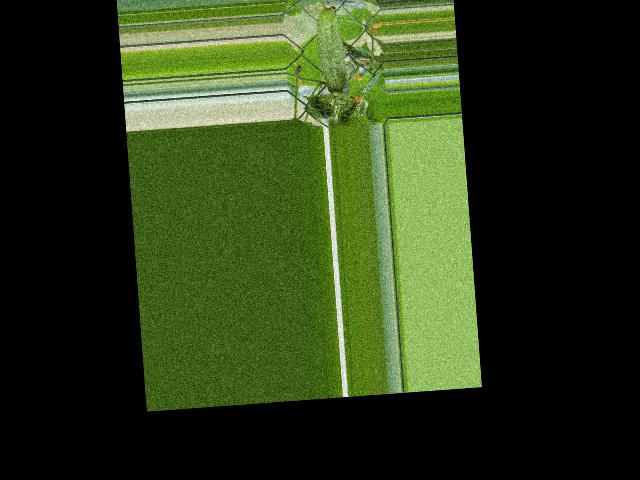cucumber: (314, 1, 349, 101)
